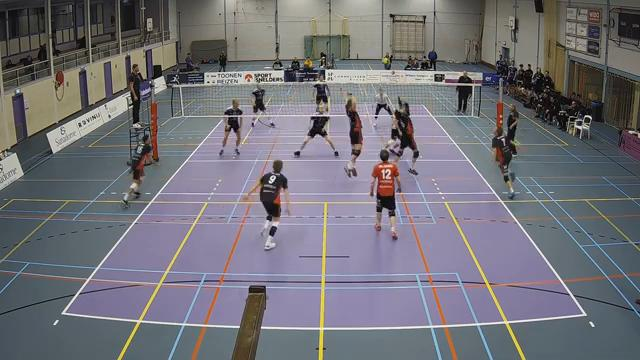Player: (245, 160, 290, 249), (370, 149, 400, 239), (121, 135, 155, 207), (294, 103, 338, 156), (492, 127, 514, 198), (344, 95, 362, 176), (219, 99, 242, 155), (373, 88, 392, 126), (375, 88, 394, 119), (251, 84, 265, 126), (314, 76, 329, 105)
Set: (390, 92, 424, 178)
ball: (381, 57, 389, 65)
